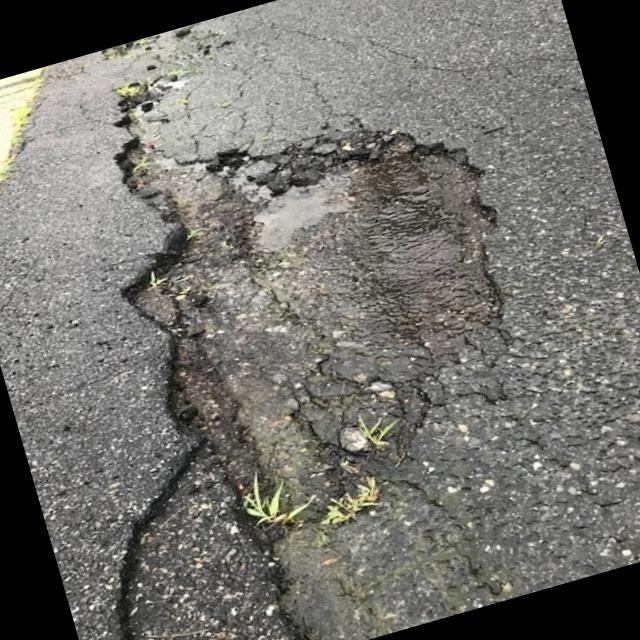Potholes: (44, 0, 595, 574)
